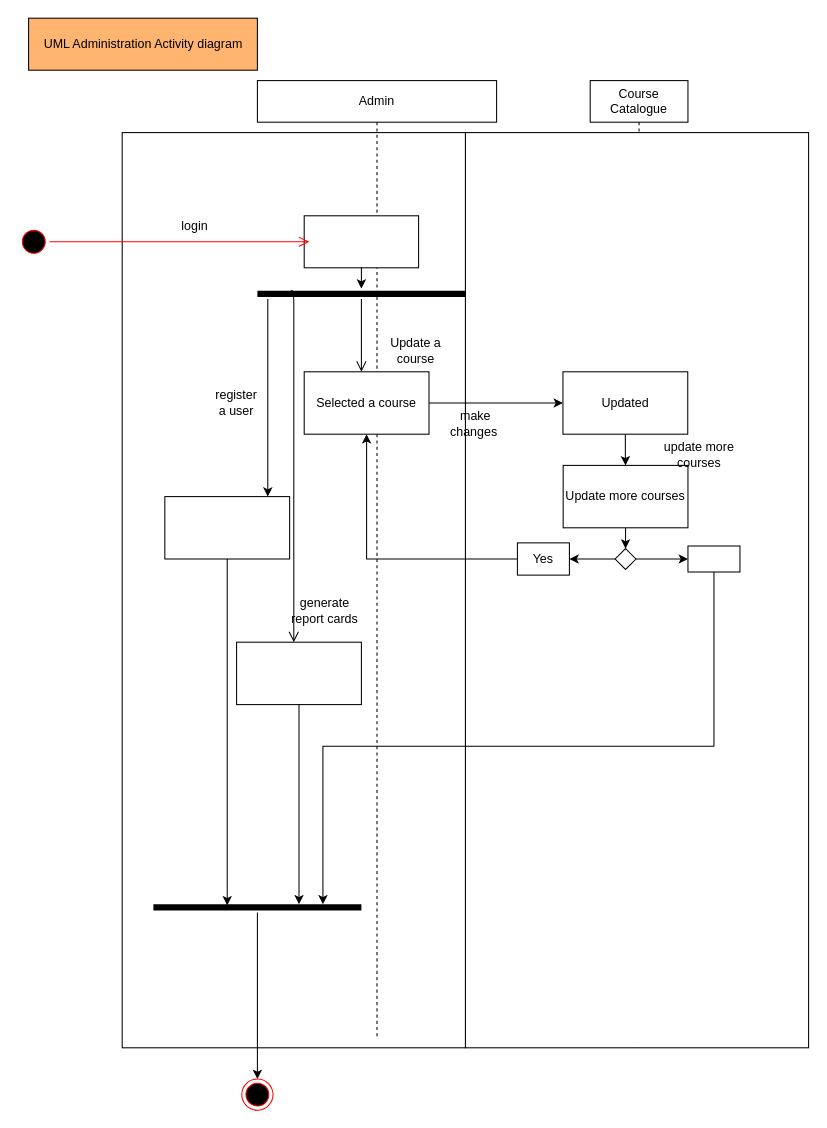
Some shapes in this 827 by 1128 pixel diagram are drawn without their labels. Each missing label, with the centre of its shape:
"Generated report cards" belongs at (298,673).
"Login Successful" belongs at (361,241).
"No" belongs at (713,558).
"User registered" belongs at (227,527).
